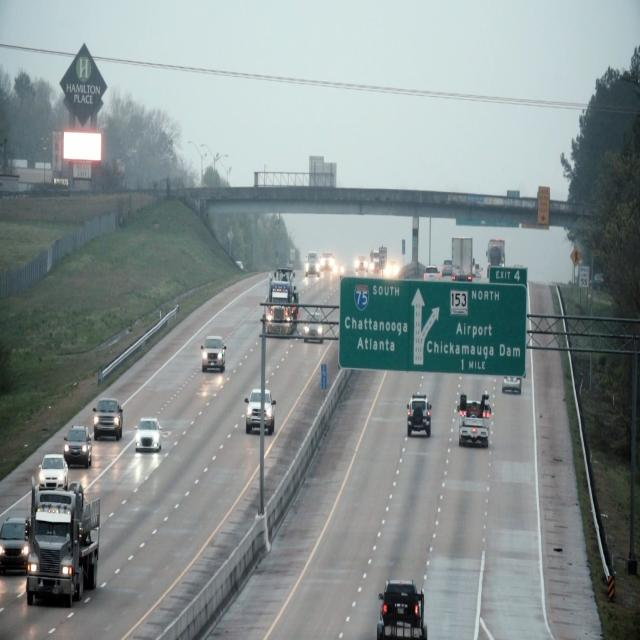Car: (26, 484, 101, 600), (379, 576, 429, 640), (265, 270, 299, 336), (457, 392, 493, 451), (1, 516, 30, 576), (244, 391, 276, 437), (92, 397, 124, 441), (64, 423, 93, 470), (39, 453, 69, 494), (408, 392, 432, 440), (137, 414, 162, 454), (201, 335, 226, 372), (303, 312, 325, 346)
